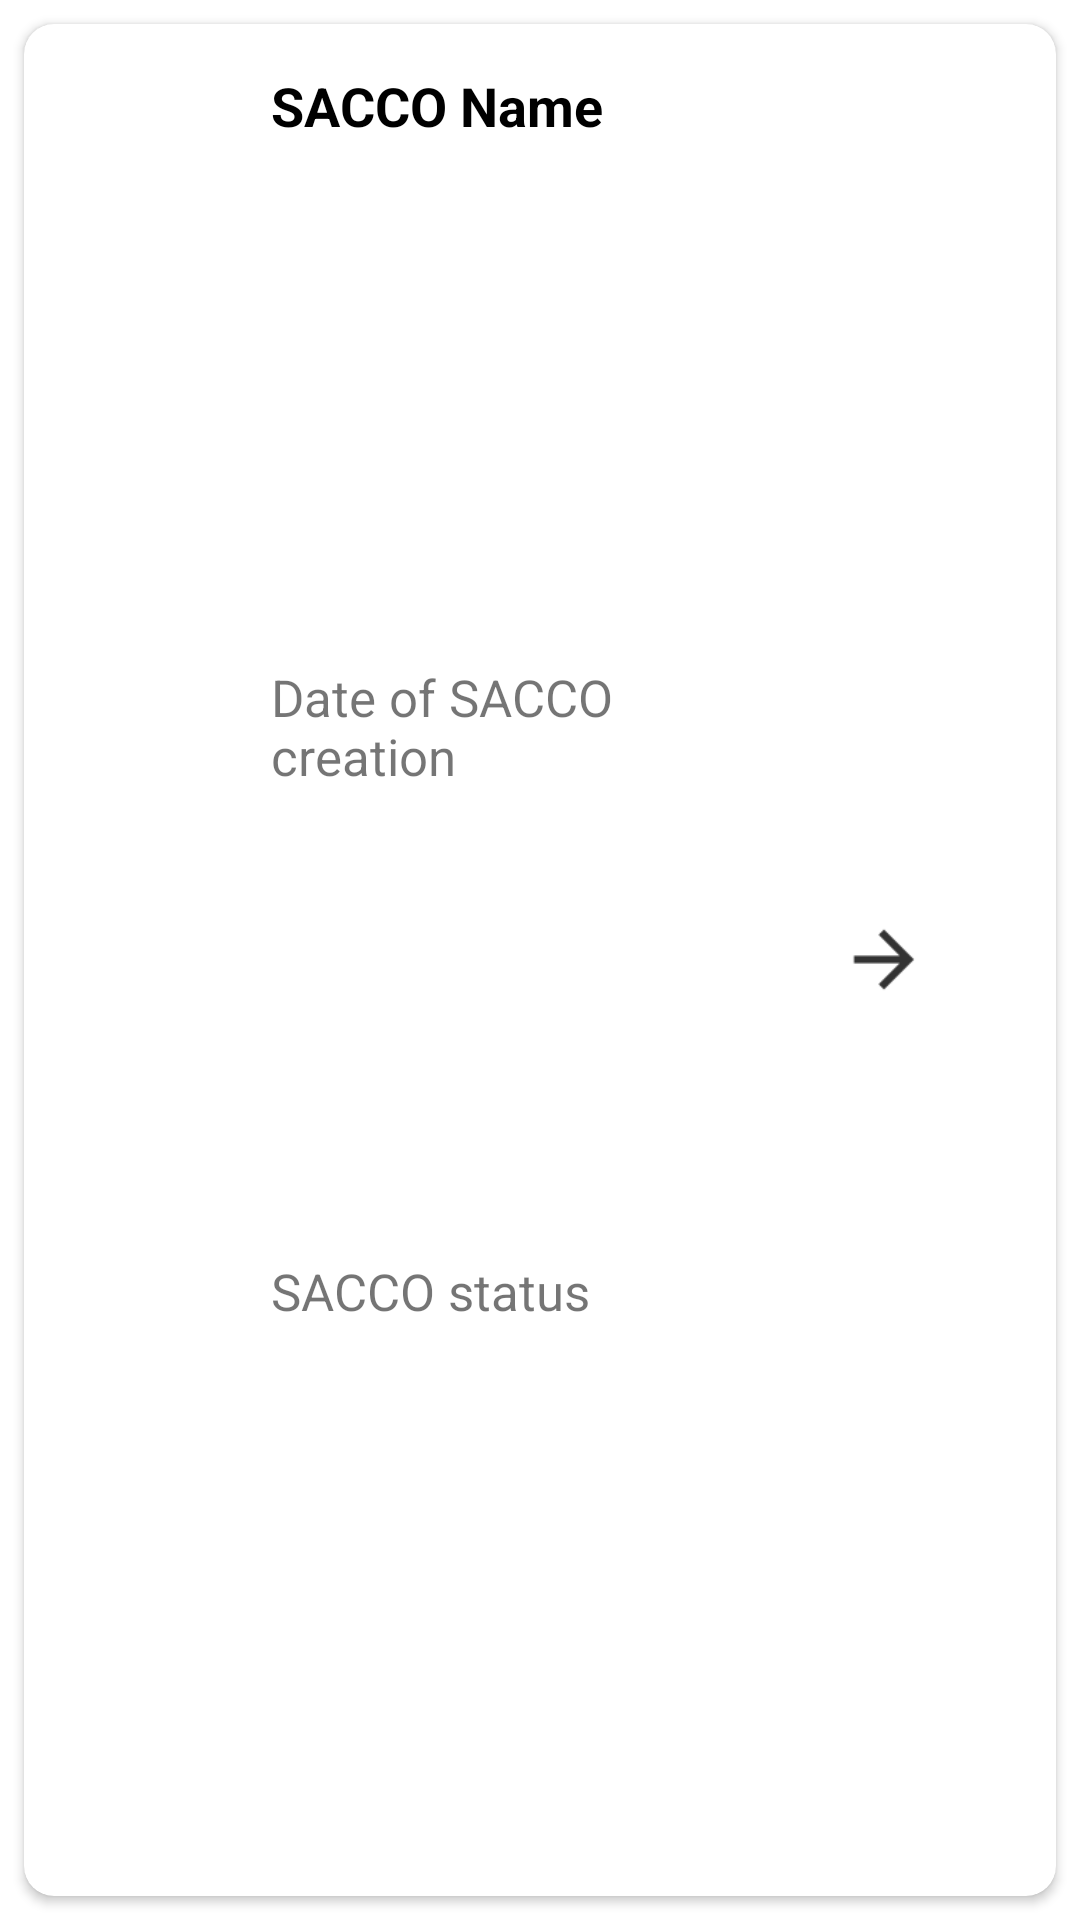

Where to tap for icons on this 1080 × 1920 app screen, as [x,y]:
See More about SACCO: [883,959]
